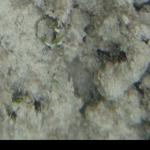dead: (1, 1, 149, 138)
